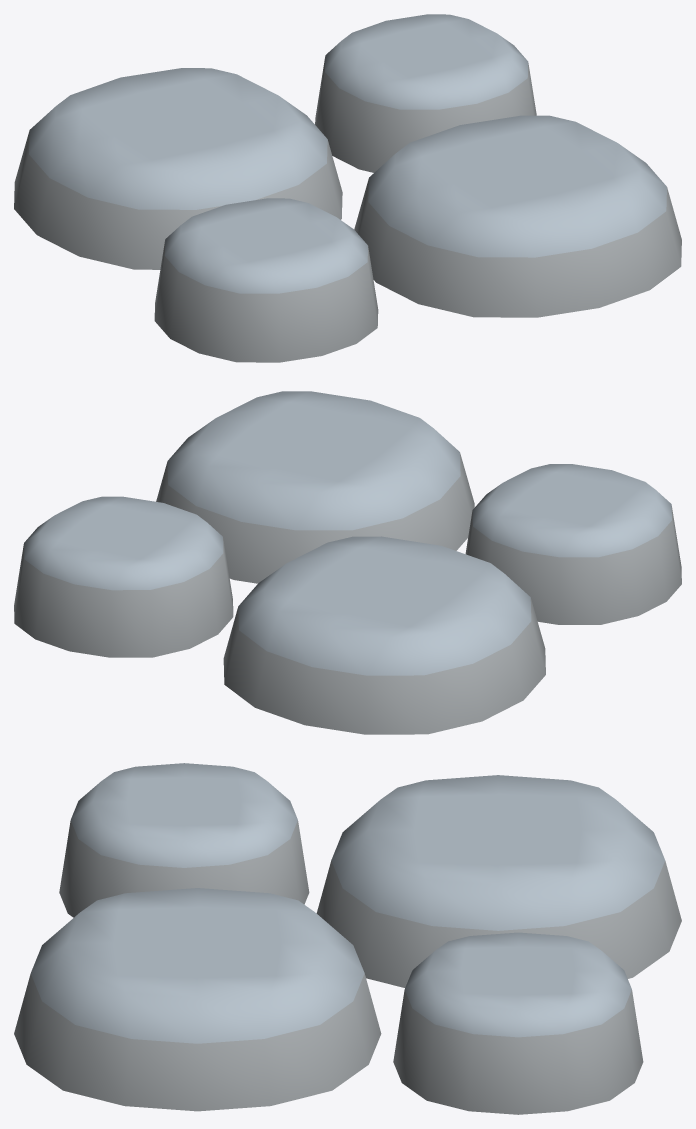
The model's file is itch_tiny_pretty_park_cobble_stones.glb.
3 renders of one model, top to bottom at view 1: azimuth 30°, elevation 25°; view 2: azimuth 150°, elevation 25°; view 3: azimuth 270°, elevation 25°, orthographic. The views are drawn at different scales.
Visible parts, largest first — view 1: cobble_stones; view 2: cobble_stones; view 3: cobble_stones.
Boxes of the visible parts, bbox=[...] form: cobble_stones: bbox=[14, 14, 681, 362]; cobble_stones: bbox=[14, 391, 681, 734]; cobble_stones: bbox=[14, 763, 681, 1114].
Size of the model in its own units: 1.15 by 0.177 by 1.18.
